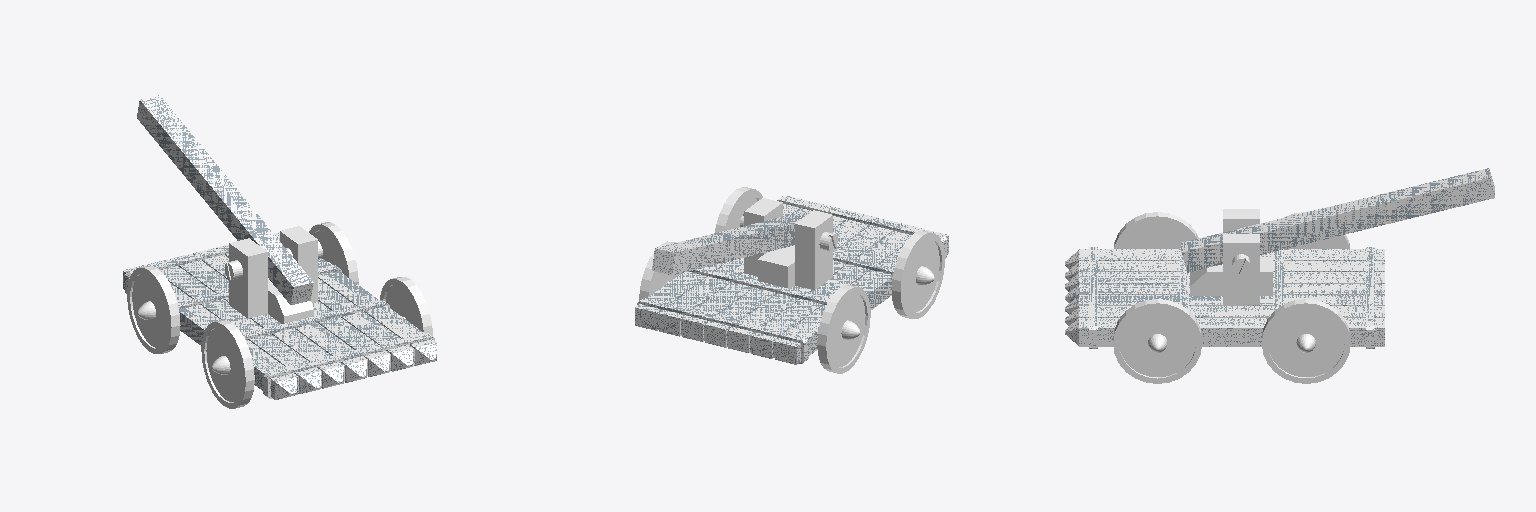
Rendered from Catapulte.obj.
3 views of the same model, side by side, from view 1: azimuth 30°, elevation 25°; view 2: azimuth 150°, elevation 25°; view 3: azimuth 270°, elevation 25° (orthographic).
Visible parts, largest first — view 1: Mesh9 Group10 Group1 Model, Mesh8 Group9 Group1 Model, Mesh7 Group8 Group1 Model, Mesh19 Group17 Group15 Group1 Model, Mesh24 Group20 Group18 Group1 Model, Mesh16 Group16 Group15 Group1 Model, Mesh21 Group19 Group18 Group1 Model, Mesh32 Group25 Group1 Model, Mesh26 Group21 Group1 Model, Mesh14 Group14 Group12 Group1 Model, Mesh30 Group24 Group22 Group1 Model, Mesh12 Group13 Group12 Group1 Model (+2 smaller); view 2: Mesh9 Group10 Group1 Model, Mesh7 Group8 Group1 Model, Mesh8 Group9 Group1 Model, Mesh24 Group20 Group18 Group1 Model, Mesh19 Group17 Group15 Group1 Model, Mesh16 Group16 Group15 Group1 Model, Mesh21 Group19 Group18 Group1 Model, Mesh33 Group26 Group1 Model, Mesh32 Group25 Group1 Model, Mesh10 Group11 Group1 Model, Mesh14 Group14 Group12 Group1 Model; view 3: Mesh9 Group10 Group1 Model, Mesh8 Group9 Group1 Model, Mesh7 Group8 Group1 Model, Mesh11 Group13 Group12 Group1 Model, Mesh27 Group23 Group22 Group1 Model, Mesh14 Group14 Group12 Group1 Model, Mesh30 Group24 Group22 Group1 Model, Mesh17 Group16 Group15 Group1 Model, Mesh19 Group17 Group15 Group1 Model, Mesh32 Group25 Group1 Model, Mesh33 Group26 Group1 Model.
Boxes of the visible parts, x1,y1,x2,y2 form: Mesh9 Group10 Group1 Model: [123, 232, 436, 399]; Mesh8 Group9 Group1 Model: [137, 95, 313, 304]; Mesh7 Group8 Group1 Model: [225, 226, 322, 323]; Mesh19 Group17 Group15 Group1 Model: [201, 320, 254, 408]; Mesh24 Group20 Group18 Group1 Model: [127, 266, 180, 353]; Mesh16 Group16 Group15 Group1 Model: [206, 328, 242, 401]; Mesh21 Group19 Group18 Group1 Model: [132, 274, 167, 347]; Mesh32 Group25 Group1 Model: [263, 333, 434, 398]; Mesh26 Group21 Group1 Model: [242, 300, 389, 339]; Mesh14 Group14 Group12 Group1 Model: [380, 277, 432, 335]; Mesh30 Group24 Group22 Group1 Model: [309, 222, 358, 284]; Mesh12 Group13 Group12 Group1 Model: [386, 285, 420, 329]; Mesh9 Group10 Group1 Model: [635, 196, 948, 364]; Mesh7 Group8 Group1 Model: [740, 198, 837, 289]; Mesh8 Group9 Group1 Model: [652, 210, 810, 274]; Mesh24 Group20 Group18 Group1 Model: [817, 285, 870, 373]; Mesh19 Group17 Group15 Group1 Model: [892, 231, 944, 318]; Mesh16 Group16 Group15 Group1 Model: [904, 239, 939, 312]; Mesh21 Group19 Group18 Group1 Model: [829, 293, 865, 366]; Mesh33 Group26 Group1 Model: [637, 298, 808, 363]; Mesh32 Group25 Group1 Model: [777, 196, 946, 258]; Mesh10 Group11 Group1 Model: [689, 268, 829, 304]; Mesh14 Group14 Group12 Group1 Model: [715, 187, 762, 232]; Mesh9 Group10 Group1 Model: [1079, 249, 1384, 346]; Mesh8 Group9 Group1 Model: [1181, 168, 1494, 272]; Mesh7 Group8 Group1 Model: [1190, 209, 1272, 304]; Mesh11 Group13 Group12 Group1 Model: [1119, 309, 1195, 376]; Mesh27 Group23 Group22 Group1 Model: [1268, 309, 1344, 376]; Mesh14 Group14 Group12 Group1 Model: [1113, 299, 1201, 383]; Mesh30 Group24 Group22 Group1 Model: [1262, 299, 1350, 383]; Mesh17 Group16 Group15 Group1 Model: [1120, 222, 1190, 248]; Mesh19 Group17 Group15 Group1 Model: [1114, 212, 1198, 248]; Mesh32 Group25 Group1 Model: [1089, 247, 1097, 348]; Mesh33 Group26 Group1 Model: [1366, 247, 1374, 348].
Size of the model in its own units: 3.97 by 2.98 by 7.05.